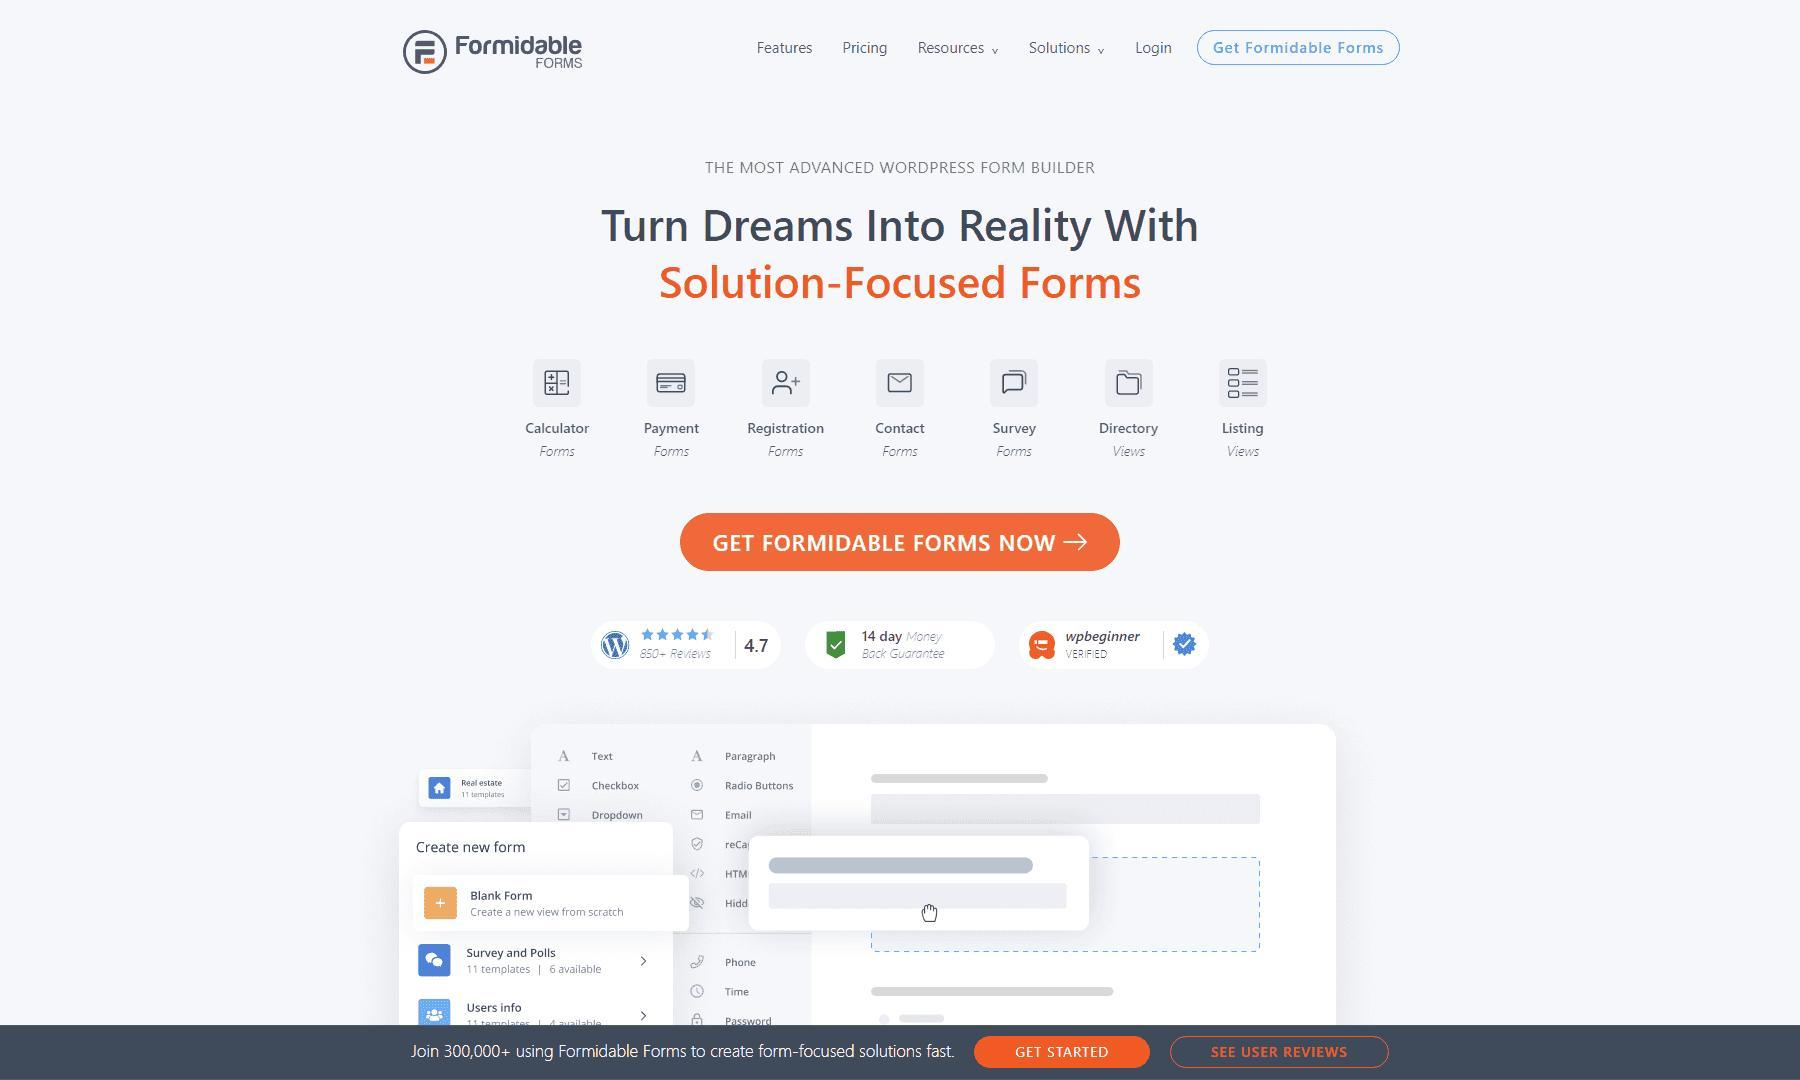button: (679, 512, 1122, 573), (1194, 27, 1403, 69), (1167, 1035, 1392, 1070), (971, 1032, 1153, 1072)
icon: (1227, 368, 1260, 400), (771, 372, 800, 399), (1115, 372, 1144, 397), (1002, 370, 1029, 397), (545, 369, 571, 397), (658, 374, 687, 395), (886, 374, 914, 395)
label: (585, 206, 1203, 305), (699, 153, 1095, 177), (918, 39, 1002, 58), (746, 418, 828, 437), (1026, 41, 1107, 57), (525, 422, 591, 437), (1099, 423, 1164, 438), (757, 40, 814, 57), (644, 422, 703, 437), (876, 422, 930, 438), (1219, 420, 1268, 438), (842, 41, 891, 58), (995, 420, 1038, 438), (1134, 41, 1175, 59)
